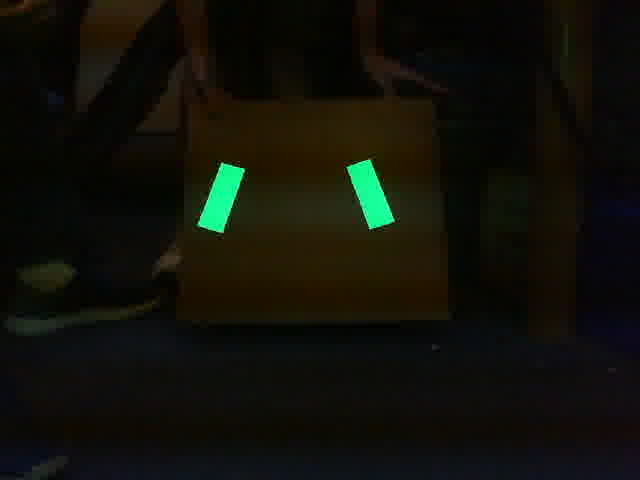target: (194, 158, 398, 234)
